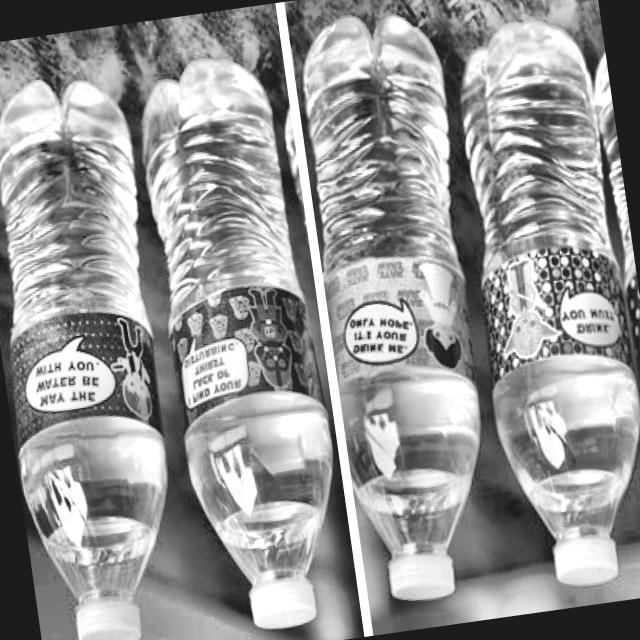waterbottle: (269, 0, 529, 626), (124, 44, 362, 640), (0, 62, 223, 640), (429, 3, 640, 603), (583, 33, 640, 541)
